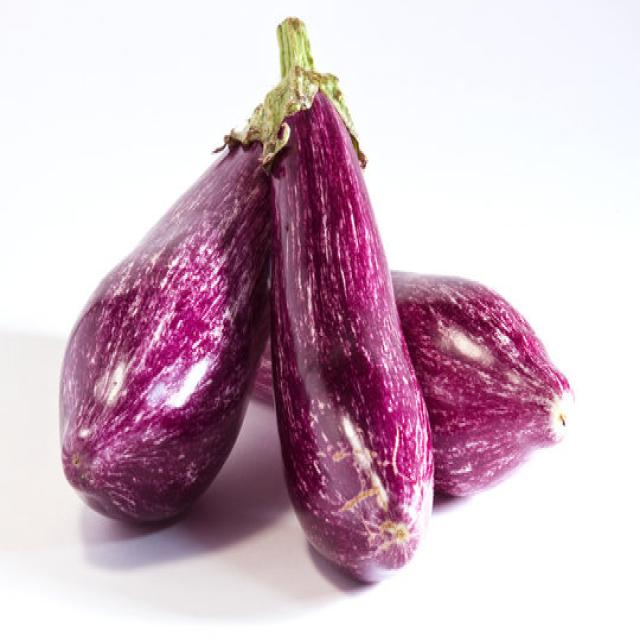Eggplant: (246, 14, 435, 583), (57, 121, 276, 526), (388, 266, 574, 499)
